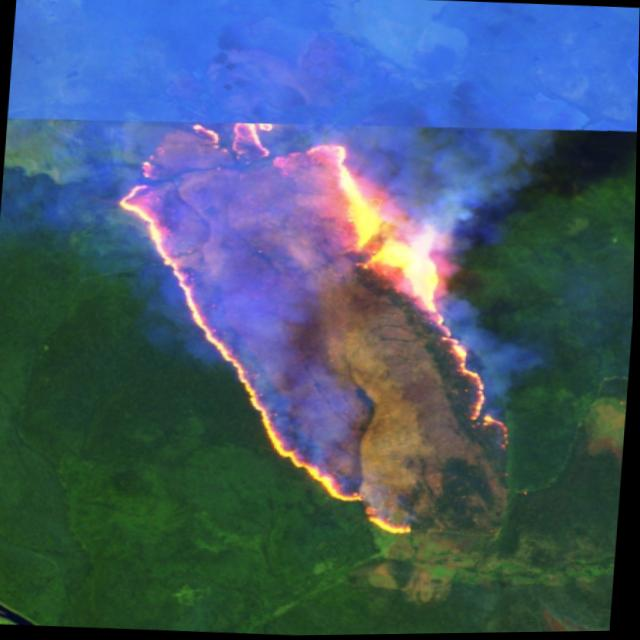fire: (93, 69, 550, 550)
